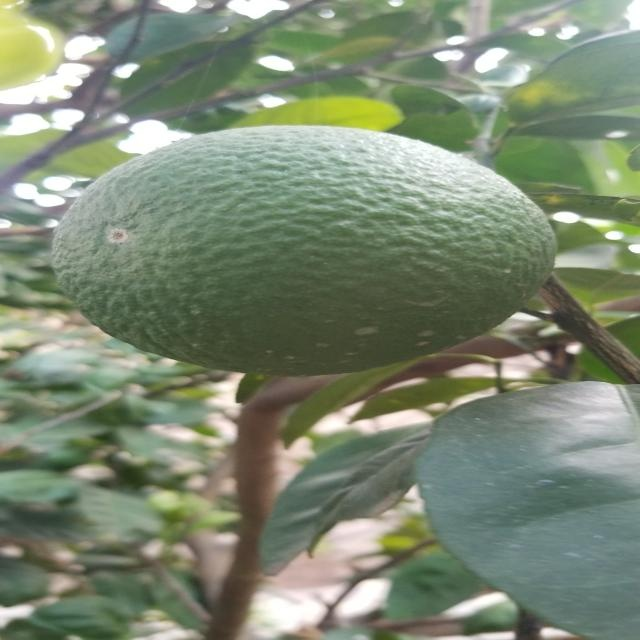agrume: (52, 116, 565, 381)
